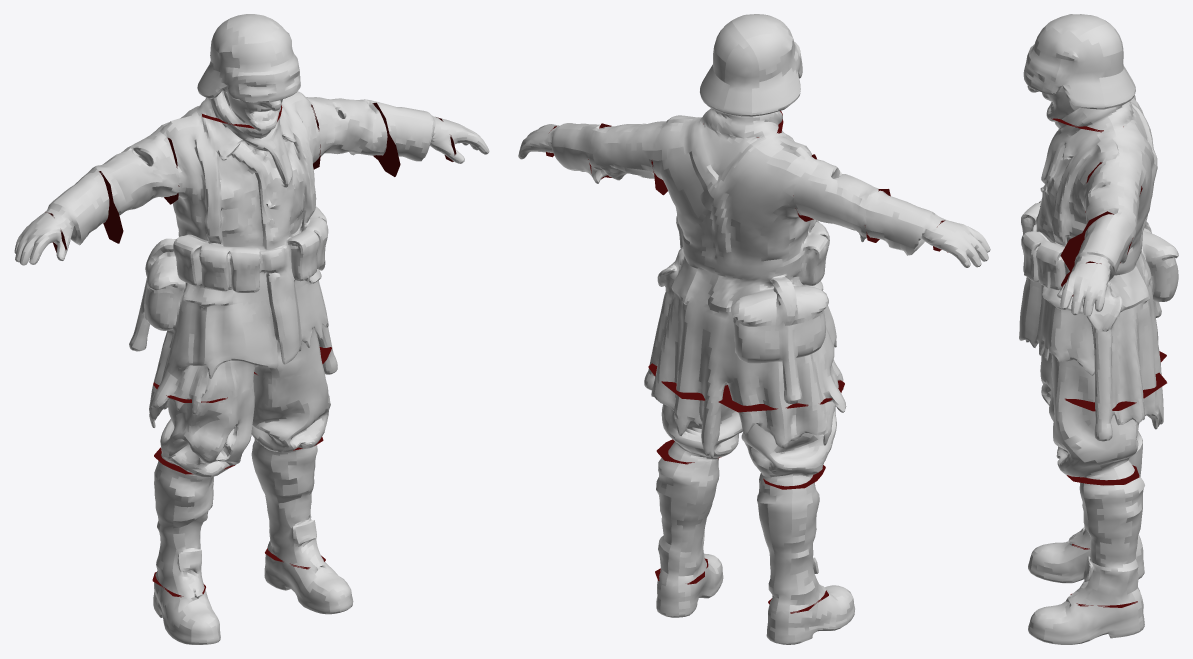
The model's file is trench_clown_gibs.glb.
3 views of the same model, side by side, from view 1: azimuth 30°, elevation 25°; view 2: azimuth 150°, elevation 25°; view 3: azimuth 270°, elevation 25° (orthographic).
Visible parts, largest first — view 1: Gib_Torso, Gib_Pelvis, Gib_Head, Gib_RightUpperLeg, Gib_RightLowerLeg, Gib_LeftLowerLeg, Gib_LeftUpperLeg, Gib_RightUpperArm, Gib_LeftUpperArm, Gib_LeftLowerArm, Gib_LeftFoot, Gib_RightLowerArm (+3 smaller); view 2: Gib_Torso, Gib_Pelvis, Gib_Head, Gib_RightUpperLeg, Gib_RightLowerLeg, Gib_LeftLowerLeg, Gib_LeftUpperLeg, Gib_RightUpperArm, Gib_LeftUpperArm, Gib_RightLowerArm, Gib_RightFoot, Gib_LeftFoot (+3 smaller); view 3: Gib_Torso, Gib_Pelvis, Gib_Head, Gib_LeftLowerLeg, Gib_LeftUpperLeg, Gib_LeftFoot, Gib_LeftUpperArm, Gib_LeftLowerArm, Gib_RightFoot, Gib_LeftHand, Gib_RightLowerLeg, Gib_RightUpperLeg.
Part boxes in pixels (left/top/right/bottom): Gib_Torso: left=145, top=91, right=328, bottom=305; Gib_Pelvis: left=129, top=262, right=331, bottom=404; Gib_Head: left=197, top=14, right=300, bottom=128; Gib_RightUpperLeg: left=149, top=382, right=254, bottom=474; Gib_RightLowerLeg: left=152, top=447, right=236, bottom=597; Gib_LeftLowerLeg: left=251, top=437, right=325, bottom=569; Gib_LeftUpperLeg: left=251, top=346, right=337, bottom=452; Gib_RightUpperArm: left=91, top=130, right=179, bottom=243; Gib_LeftUpperArm: left=306, top=97, right=400, bottom=176; Gib_LeftLowerArm: left=370, top=100, right=456, bottom=176; Gib_LeftFoot: left=264, top=548, right=353, bottom=614; Gib_RightLowerArm: left=45, top=169, right=123, bottom=254; Gib_Torso: left=651, top=110, right=829, bottom=326; Gib_Pelvis: left=648, top=276, right=844, bottom=412; Gib_Head: left=699, top=14, right=802, bottom=138; Gib_RightUpperLeg: left=712, top=377, right=846, bottom=489; Gib_RightLowerLeg: left=757, top=465, right=828, bottom=613; Gib_LeftLowerLeg: left=655, top=439, right=719, bottom=585; Gib_LeftUpperLeg: left=644, top=362, right=742, bottom=464; Gib_RightUpperArm: left=793, top=154, right=890, bottom=242; Gib_LeftUpperArm: left=588, top=121, right=667, bottom=195; Gib_RightLowerArm: left=864, top=189, right=946, bottom=255; Gib_RightFoot: left=766, top=585, right=854, bottom=644; Gib_LeftFoot: left=655, top=553, right=723, bottom=617; Gib_Torso: left=1021, top=98, right=1178, bottom=316; Gib_Pelvis: left=1019, top=259, right=1178, bottom=412; Gib_Head: left=1023, top=14, right=1135, bottom=132; Gib_LeftLowerLeg: left=1067, top=465, right=1144, bottom=607; Gib_LeftUpperLeg: left=1053, top=372, right=1166, bottom=485; Gib_LeftFoot: left=1028, top=594, right=1144, bottom=644; Gib_LeftUpperArm: left=1060, top=159, right=1141, bottom=271; Gib_LeftLowerArm: left=1061, top=211, right=1133, bottom=296; Gib_RightFoot: left=1028, top=539, right=1144, bottom=583; Gib_LeftHand: left=1057, top=261, right=1109, bottom=316; Gib_RightLowerLeg: left=1068, top=430, right=1142, bottom=549; Gib_RightUpperLeg: left=1040, top=351, right=1166, bottom=421.
Bounding box in the file's own units: 1.58 × 1.93 × 0.4759.
